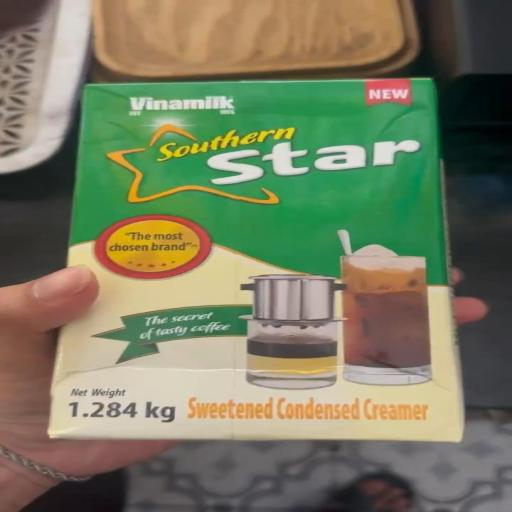ly_giay: (47, 78, 463, 442)
